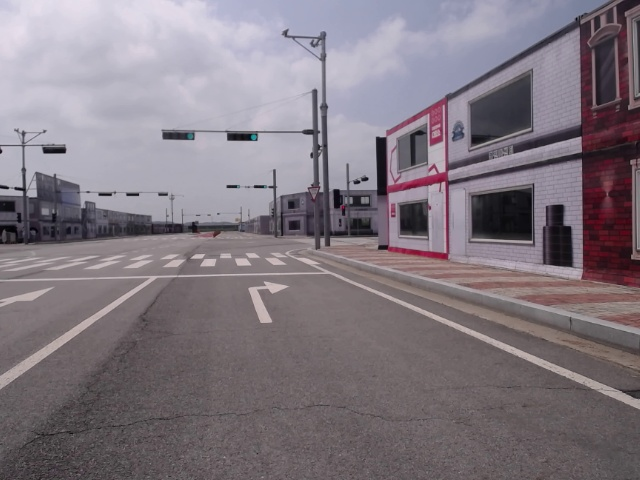straight_green_4: (162, 132, 194, 140), (227, 133, 257, 141), (226, 184, 241, 189), (253, 184, 267, 188)
